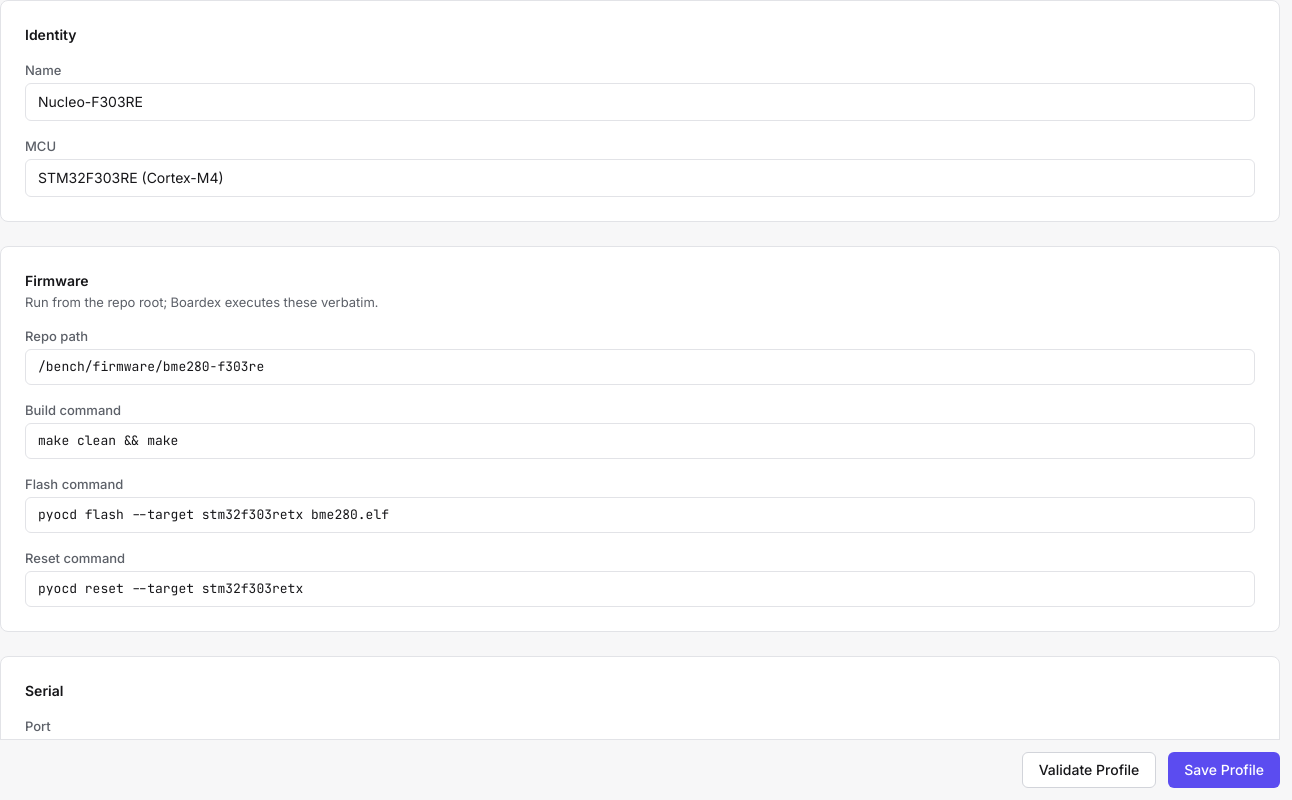
Test case: Validate Profile against the bench (§7.5) › marks a matched but offline device degraded, distinctly from missing
What coordinates should you click on to do the following:
click the button "Validate Profile"
I would click on:
 (1089, 770)
Its box is x1=1022 y1=752 x2=1156 y2=788.
(page scrolled)
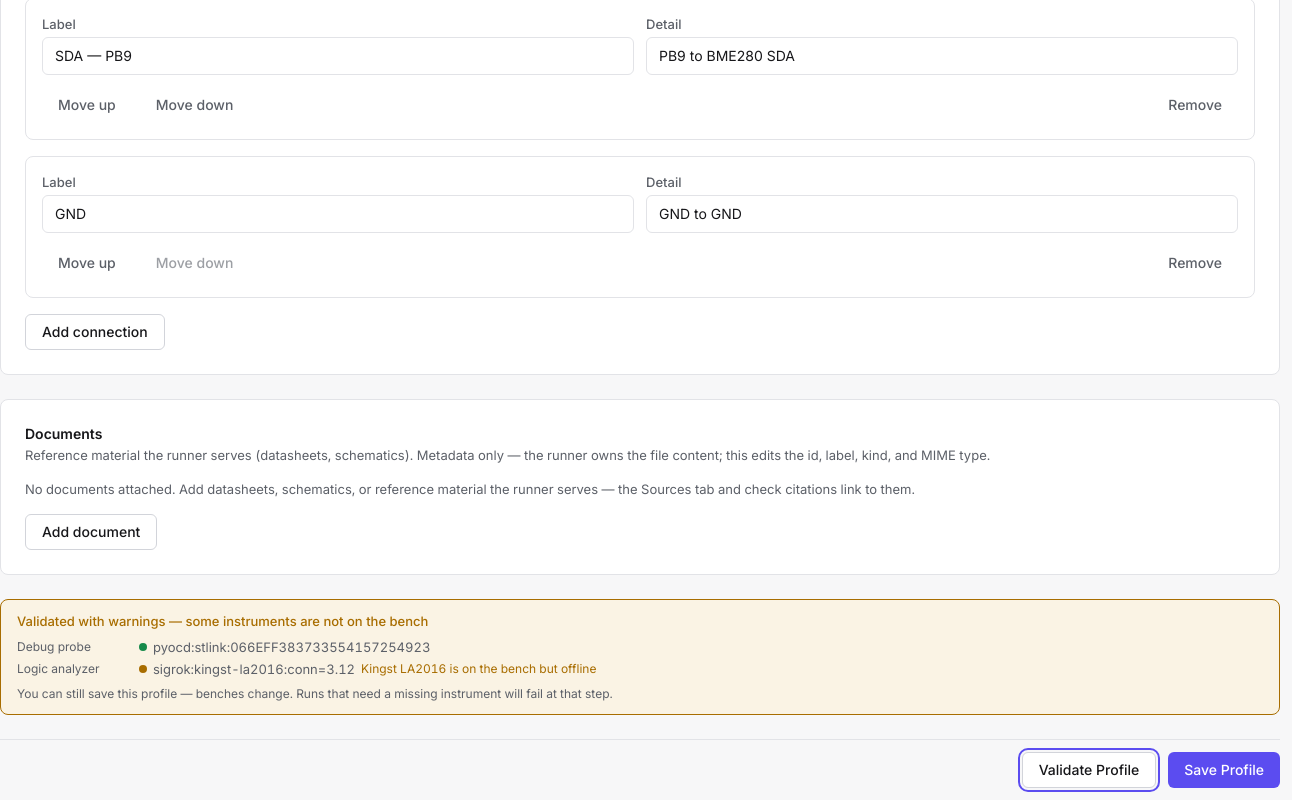
Expected: the message named "Bench validation" shows "Validated with warnings", x1=17 y1=613 x2=428 y2=629
Expected: the message named "Bench validation" shows "Kingst LA2016 is on the bench but offline", x1=361 y1=661 x2=596 y2=676
Expected: the text "sigrok:kingst-la2016:conn=3.12" is shown, x1=153 y1=660 x2=355 y2=678
